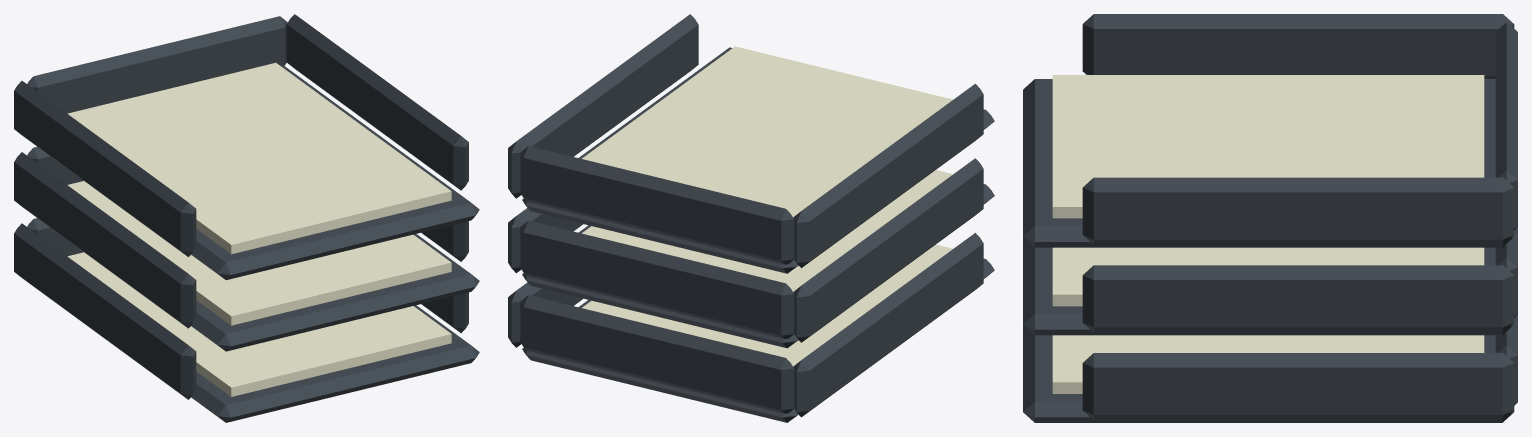
File: PaperTrayStack.fbx
The picture shows the model from 3 angles, left to right: view 1: azimuth 30°, elevation 25°; view 2: azimuth 150°, elevation 25°; view 3: azimuth 270°, elevation 25°; orthographic projection. The views are drawn at different scales.
Visible parts, largest first — view 1: PaperTrayStack; view 2: PaperTrayStack; view 3: PaperTrayStack.
Part boxes in pixels (left/top/right/bottom): PaperTrayStack: left=14, top=14, right=479, bottom=422; PaperTrayStack: left=508, top=14, right=994, bottom=422; PaperTrayStack: left=1023, top=14, right=1517, bottom=422.
Bounding box in the file's own units: 27.5 × 18.8 × 33.25.
1 material, 1 textured.
